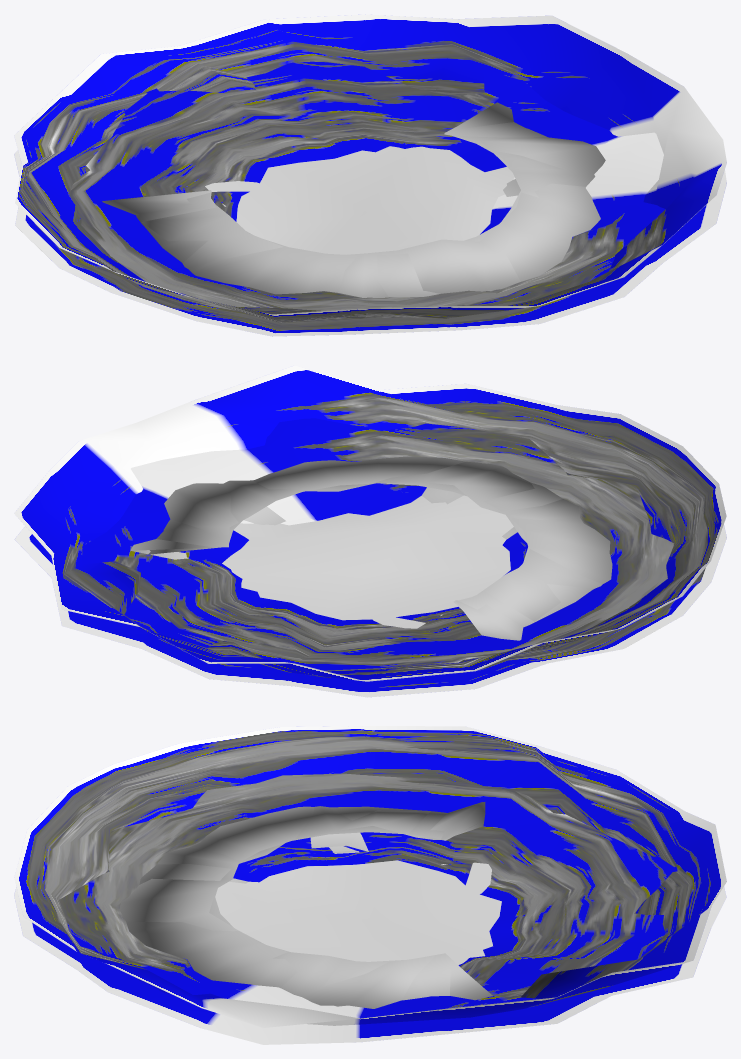
Rendered from cylinder_daoguang.FBX.
3 renders of one model, top to bottom at view 1: azimuth 30°, elevation 25°; view 2: azimuth 150°, elevation 25°; view 3: azimuth 270°, elevation 25°, orthographic. The views are drawn at different scales.
Visible parts, largest first — view 1: Cylinder005, Cylinder004, Plane001, Cylinder003_shui, Cylinder002; view 2: Cylinder005, Cylinder004, Plane001, Cylinder003_shui, Cylinder002; view 3: Cylinder005, Cylinder004, Plane001, Cylinder003_shui, Cylinder002.
Part boxes in pixels (bbox=[...]): Cylinder005: bbox=[14, 61, 726, 336]; Cylinder004: bbox=[14, 14, 726, 323]; Plane001: bbox=[205, 146, 514, 254]; Cylinder003_shui: bbox=[102, 102, 605, 297]; Cylinder002: bbox=[136, 122, 600, 297]; Cylinder005: bbox=[14, 418, 726, 697]; Cylinder004: bbox=[14, 365, 726, 681]; Plane001: bbox=[222, 495, 513, 628]; Cylinder003_shui: bbox=[130, 461, 602, 640]; Cylinder002: bbox=[139, 456, 612, 630]; Cylinder005: bbox=[14, 773, 726, 1044]; Cylinder004: bbox=[14, 726, 726, 1027]; Plane001: bbox=[215, 860, 501, 964]; Cylinder003_shui: bbox=[119, 802, 492, 1008]; Cylinder002: bbox=[126, 806, 476, 1006].
Size of the model in its own units: 383 by 41.57 by 383.
